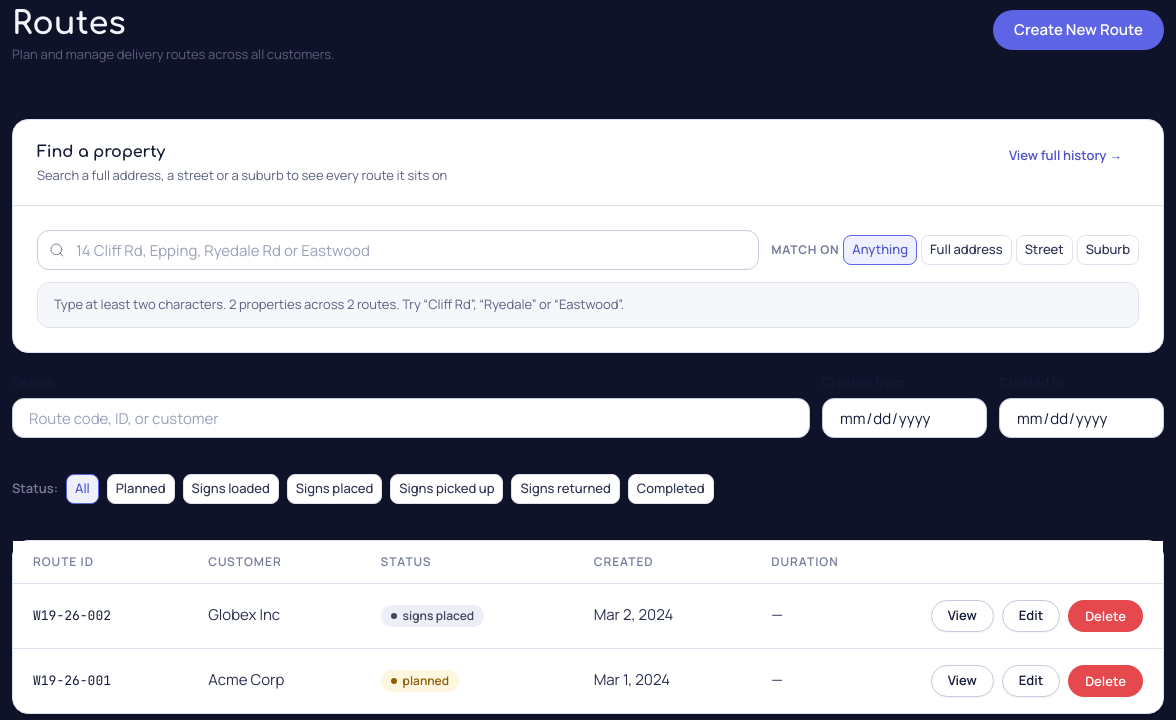
Test: Operator Routes List Page › search and date filters › narrows results by customer name search (case-insensitive)
The image size is (1176, 720).
Check: the text "W19-26-001" is shown, box 33,672 -> 111,690
Type "ACME" into the search field labelled "Search" at x=411, y=418, box 12,398 -> 810,438
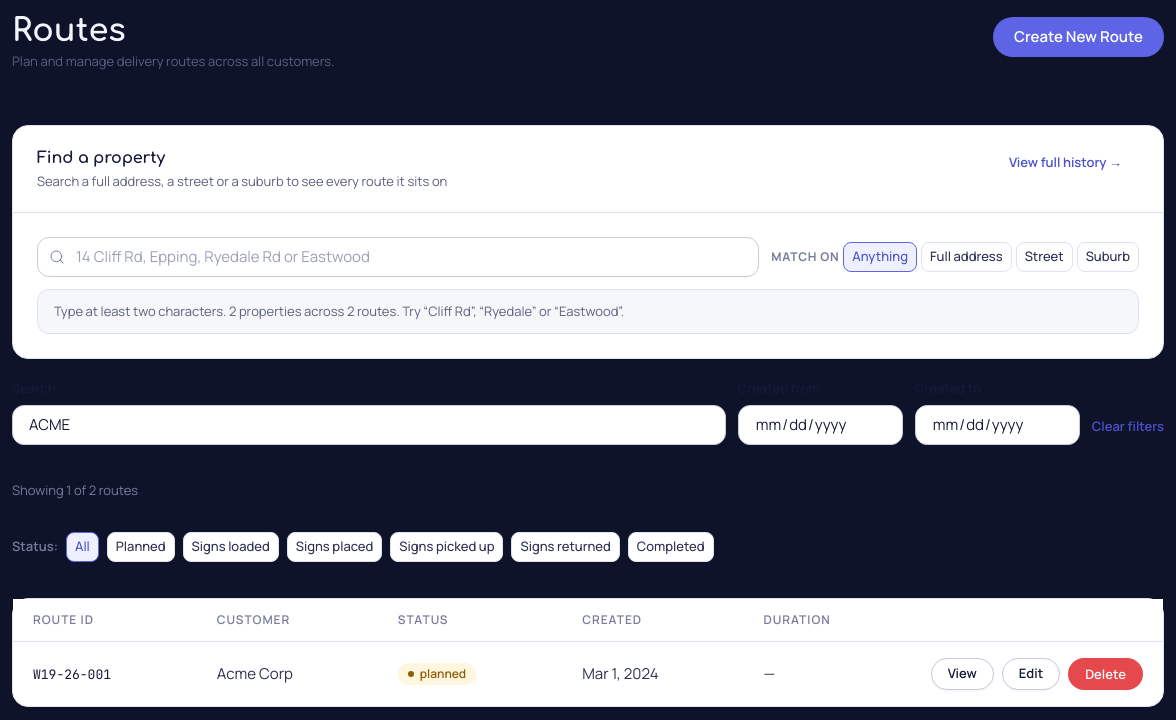
Check: the text "W19-26-001" is shown, box 33,666 -> 111,683
Check: the text "W19-26-002" is gone
Check: the text "Showing 1 of 2 routes" is shown, box 12,481 -> 138,499
